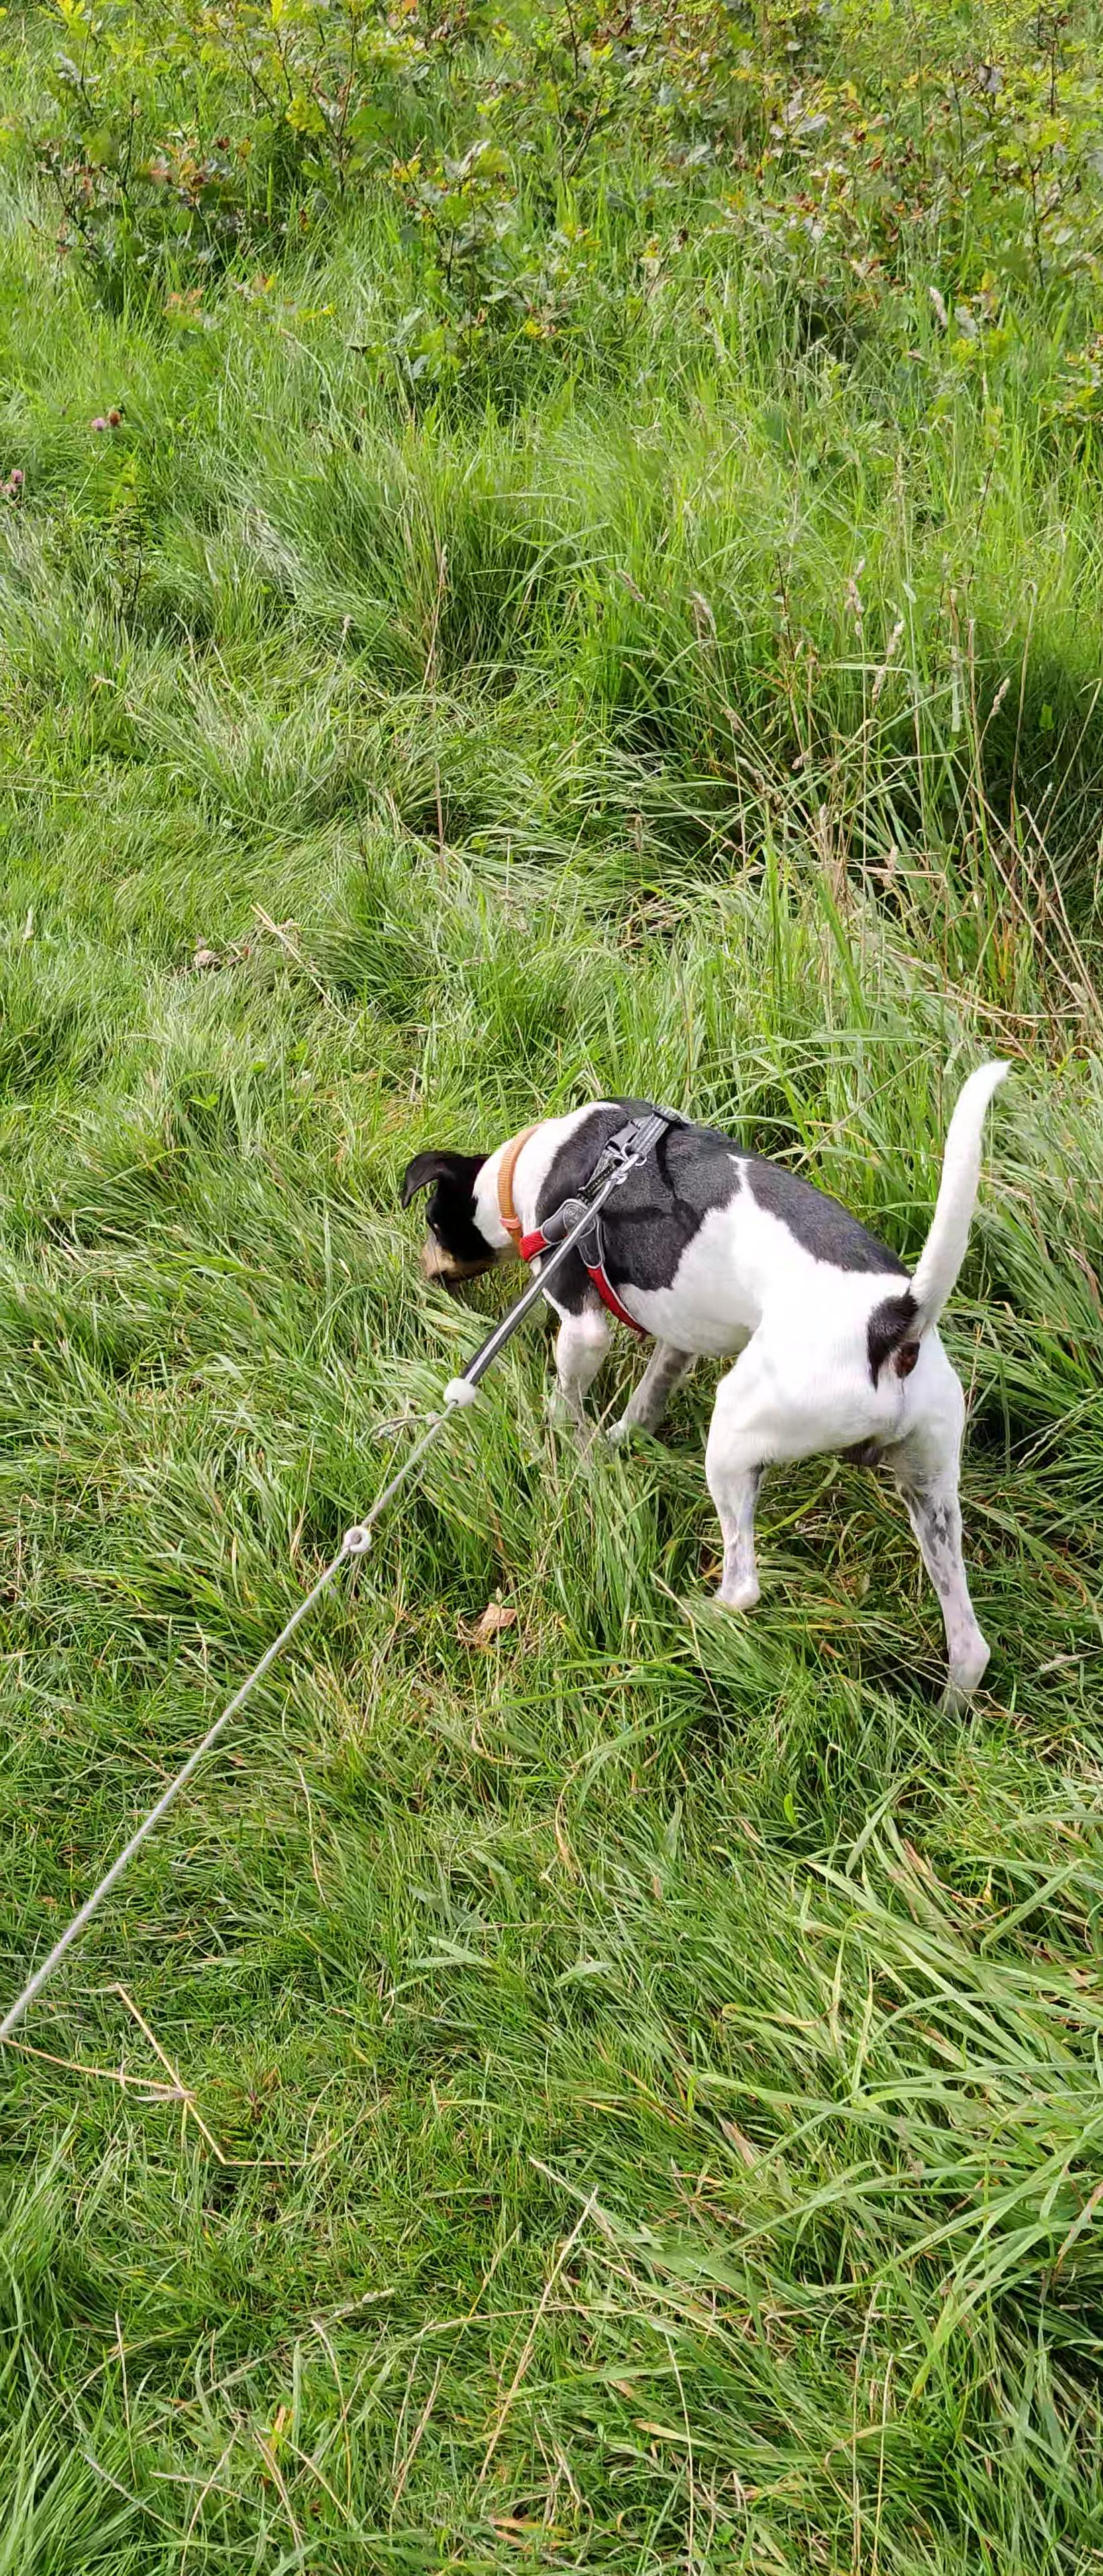Dog: (395, 994, 1027, 1750)
